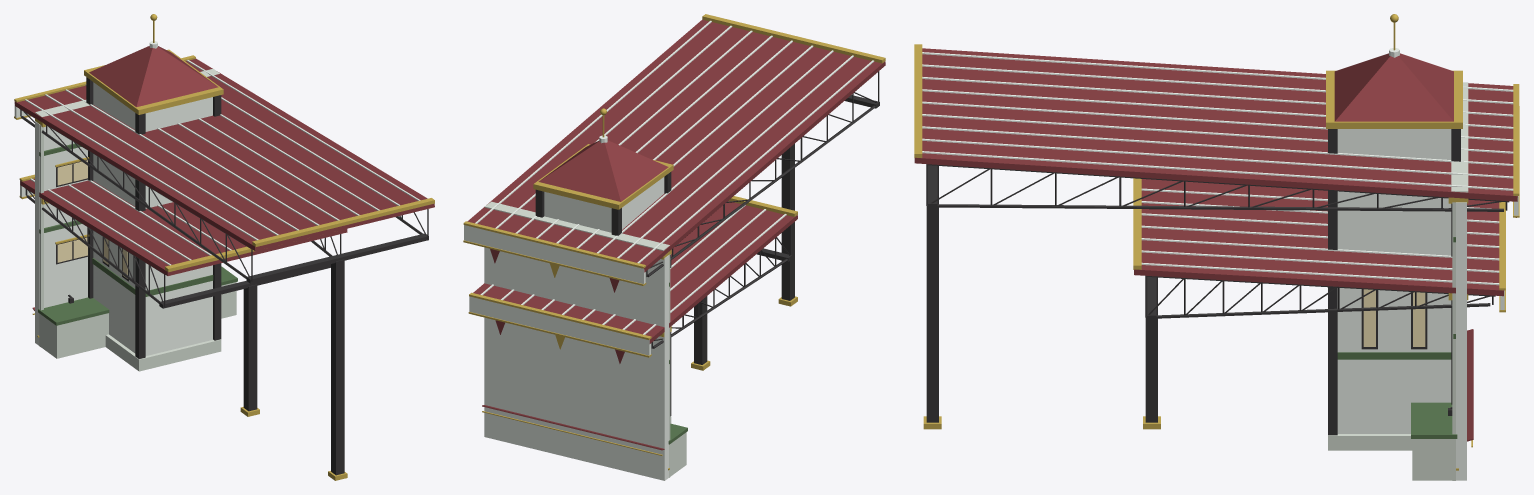
The model's file is downs-stand.glb.
3 views of the same model, side by side, from view 1: azimuth 30°, elevation 25°; view 2: azimuth 150°, elevation 25°; view 3: azimuth 270°, elevation 25° (orthographic). The views are drawn at different scales.
Parts seen in each view (by area): view 1: dn_roof_bay_barn, dn_tower_mint, dn_roof_bay_s_barn, dn_roof_bay_black, dn_roof_bay_mint, dn_roof_bay_s_black, dn_tower_barn, dn_back_mint, dn_back_gate_mint, dn_tower_black, dn_suite_mint2, dn_roof_bay_gold (+10 smaller); view 2: dn_roof_bay_barn, dn_back_mint, dn_back_gate_mint, dn_roof_bay_s_barn, dn_roof_bay_mint, dn_tower_barn, dn_roof_bay_s_mint, dn_roof_bay_black, dn_roof_bay_gold, dn_tower_mint, dn_roof_bay_s_black, dn_roof_bay_s_gold (+5 smaller); view 3: dn_roof_bay_barn, dn_roof_bay_s_barn, dn_tower_mint, dn_roof_bay_mint, dn_roof_bay_black, dn_tower_barn, dn_roof_bay_s_mint, dn_roof_bay_s_black, dn_tower_black, dn_back_gate_mint, dn_tower_gold, dn_roof_bay_gold (+9 smaller).
Boxes of the visible parts, bbox=[...] form: dn_roof_bay_barn: bbox=[14, 58, 434, 250]; dn_tower_mint: bbox=[93, 41, 212, 355]; dn_roof_bay_s_barn: bbox=[20, 178, 347, 275]; dn_roof_bay_black: bbox=[20, 109, 428, 475]; dn_roof_bay_mint: bbox=[14, 60, 420, 240]; dn_roof_bay_s_black: bbox=[25, 188, 341, 411]; dn_tower_barn: bbox=[89, 46, 218, 107]; dn_back_mint: bbox=[36, 124, 87, 344]; dn_back_gate_mint: bbox=[35, 121, 87, 345]; dn_tower_black: bbox=[86, 77, 221, 358]; dn_suite_mint2: bbox=[39, 282, 236, 358]; dn_roof_bay_gold: bbox=[14, 55, 434, 480]; dn_roof_bay_barn: bbox=[467, 19, 885, 292]; dn_back_mint: bbox=[484, 247, 668, 480]; dn_back_gate_mint: bbox=[484, 248, 668, 480]; dn_roof_bay_s_barn: bbox=[473, 201, 797, 363]; dn_roof_bay_mint: bbox=[464, 20, 874, 283]; dn_tower_barn: bbox=[538, 140, 668, 201]; dn_roof_bay_s_mint: bbox=[469, 204, 786, 355]; dn_roof_bay_black: bbox=[646, 71, 879, 300]; dn_roof_bay_gold: bbox=[463, 14, 885, 306]; dn_tower_mint: bbox=[544, 135, 664, 232]; dn_roof_bay_s_black: bbox=[651, 224, 792, 364]; dn_roof_bay_s_gold: bbox=[468, 196, 797, 370]; dn_roof_bay_barn: bbox=[914, 48, 1517, 217]; dn_roof_bay_s_barn: bbox=[1134, 179, 1504, 296]; dn_tower_mint: bbox=[1337, 48, 1451, 433]; dn_roof_bay_mint: bbox=[922, 52, 1518, 215]; dn_roof_bay_black: bbox=[926, 164, 1509, 422]; dn_tower_barn: bbox=[1334, 53, 1453, 121]; dn_roof_bay_s_mint: bbox=[1141, 188, 1504, 309]; dn_roof_bay_s_black: bbox=[1145, 275, 1495, 422]; dn_tower_black: bbox=[1328, 129, 1460, 435]; dn_back_gate_mint: bbox=[1456, 202, 1466, 480]; dn_tower_gold: bbox=[1326, 14, 1462, 128]; dn_roof_bay_gold: bbox=[914, 44, 1519, 429].
Size of the model in its own units: 19.2 by 33.16 by 44.2.
